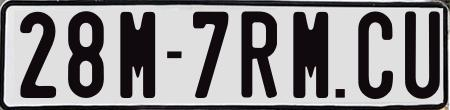2: (20, 9, 62, 97)
7: (190, 12, 227, 104)
8: (68, 8, 110, 100)
C: (355, 11, 391, 100)
M: (291, 9, 328, 101), (117, 12, 156, 99)
R: (240, 9, 278, 101)
U: (402, 10, 432, 101)
